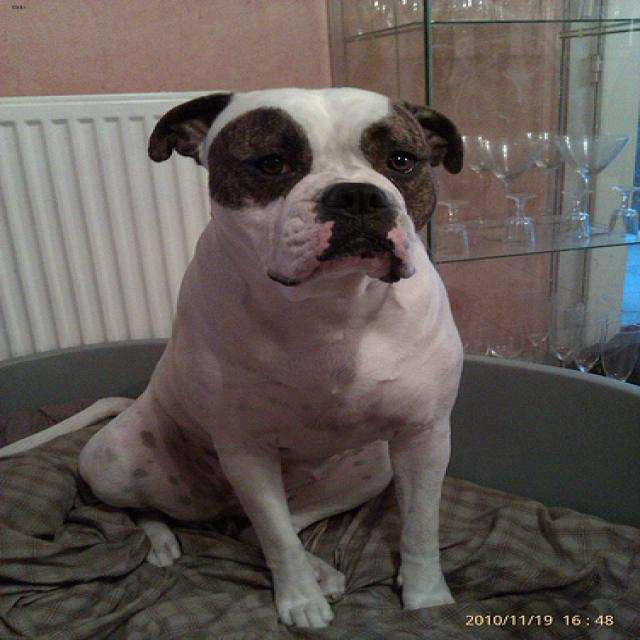dog-american_bulldog: (2, 78, 492, 637)
